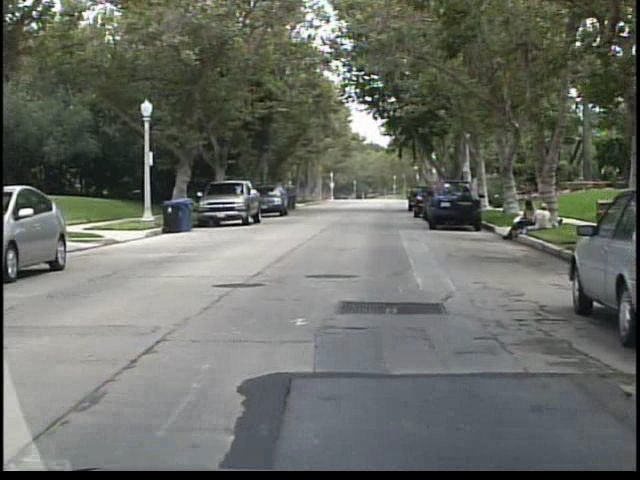person: (504, 198, 539, 242), (529, 203, 551, 230)
